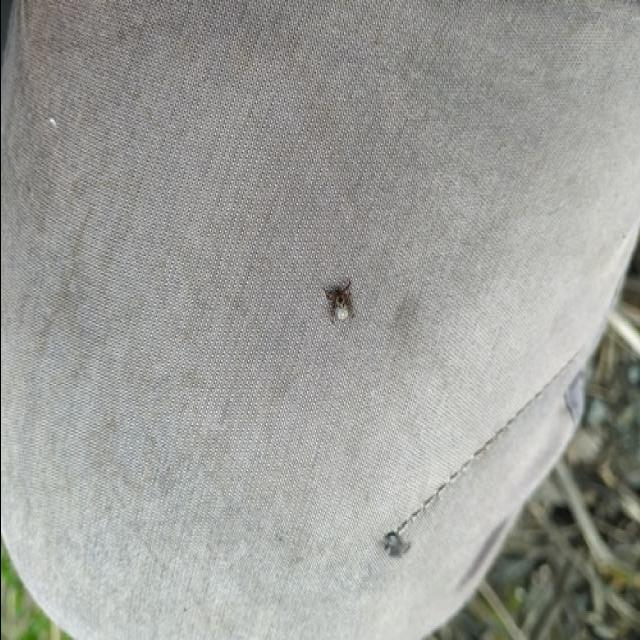Dermacentor Reticulatus-M: (317, 278, 353, 323)
